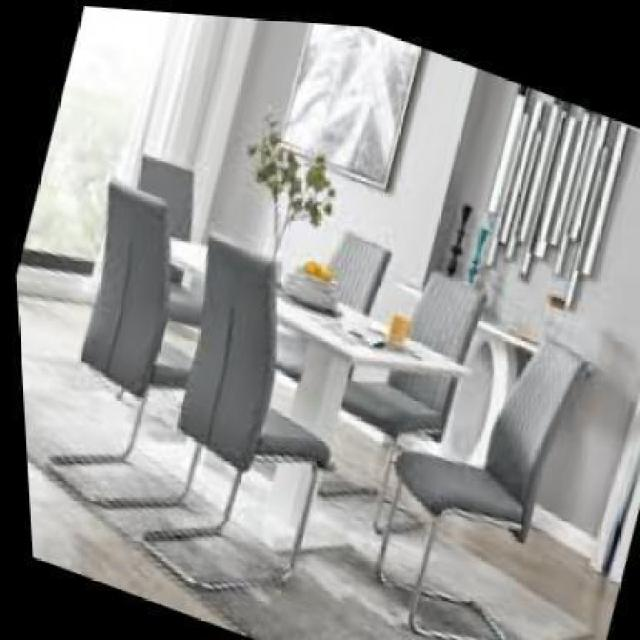tables: (160, 234, 472, 578)
